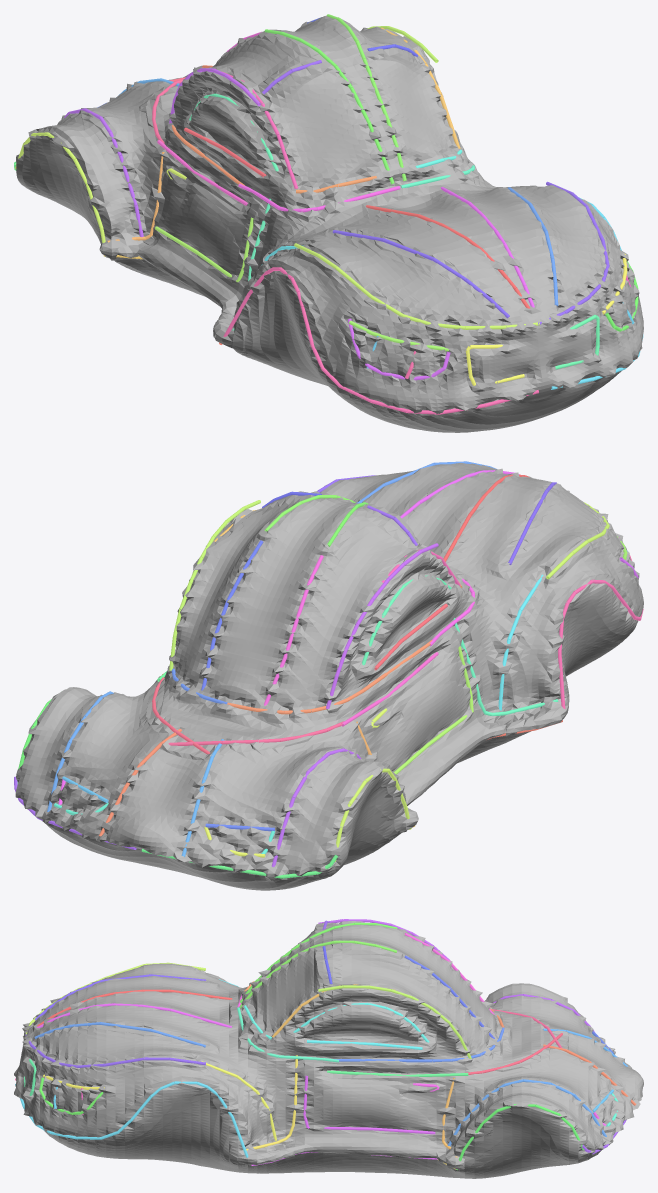
Rendered from author1_car.gltf.
3 renders of one model, top to bottom at view 1: azimuth 30°, elevation 25°; view 2: azimuth 150°, elevation 25°; view 3: azimuth 270°, elevation 25°, orthographic. The views are drawn at different scales.
Size of the model in its own units: 0.4286 by 0.3454 by 0.8744.
